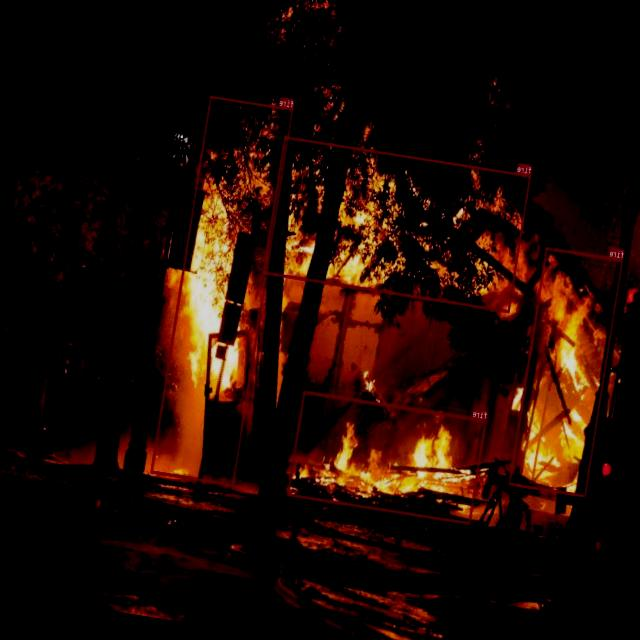fire: (151, 96, 294, 486), (263, 136, 532, 312), (509, 247, 624, 497), (288, 390, 487, 524)
